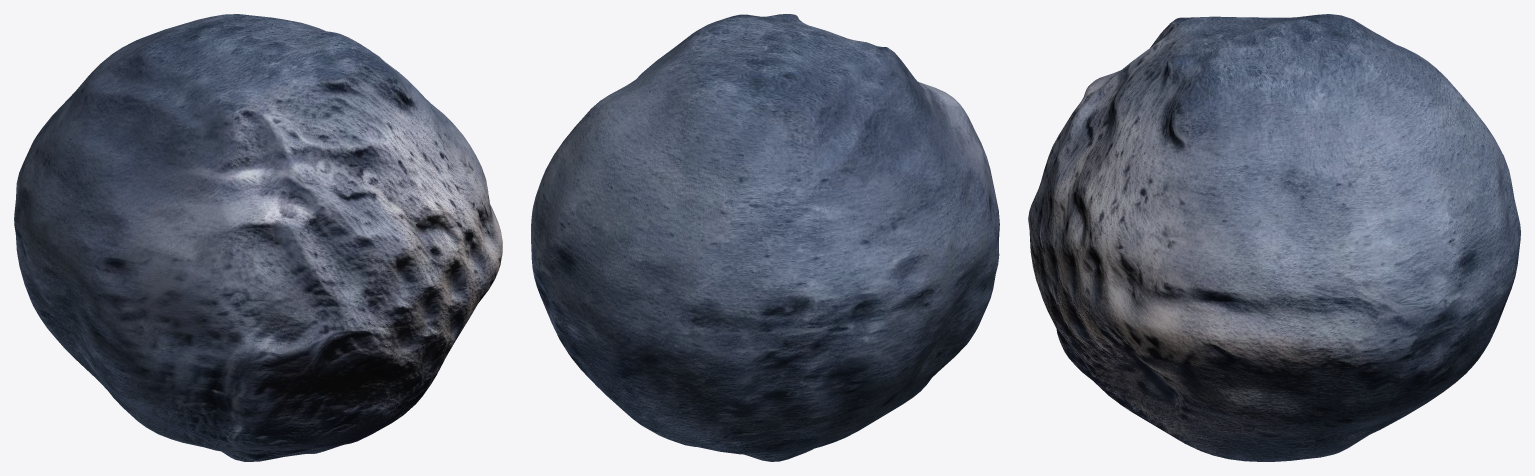
Rendered from meteorito1.glb.
3 renders of one model, left to right at view 1: azimuth 30°, elevation 25°; view 2: azimuth 150°, elevation 25°; view 3: azimuth 270°, elevation 25°, orthographic. The views are drawn at different scales.
Visible parts, largest first — view 1: Galaxy_Meteor1_Web; view 2: Galaxy_Meteor1_Web; view 3: Galaxy_Meteor1_Web.
Boxes of the visible parts, <box> form: Galaxy_Meteor1_Web: <box>14,14,502,461</box>; Galaxy_Meteor1_Web: <box>531,14,999,461</box>; Galaxy_Meteor1_Web: <box>1028,14,1520,461</box>.
Bounding box in the file's own units: 1.13 × 1.06 × 1.17.
1 material, 1 textured.
